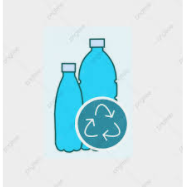Bottle: (82, 38, 117, 151), (56, 63, 83, 151)
